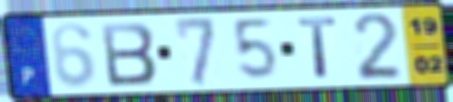2: (351, 11, 406, 82)
5: (228, 16, 281, 84)
6: (49, 21, 99, 91)
7: (172, 14, 218, 89)
B: (98, 21, 160, 89)
T: (295, 15, 341, 81)
